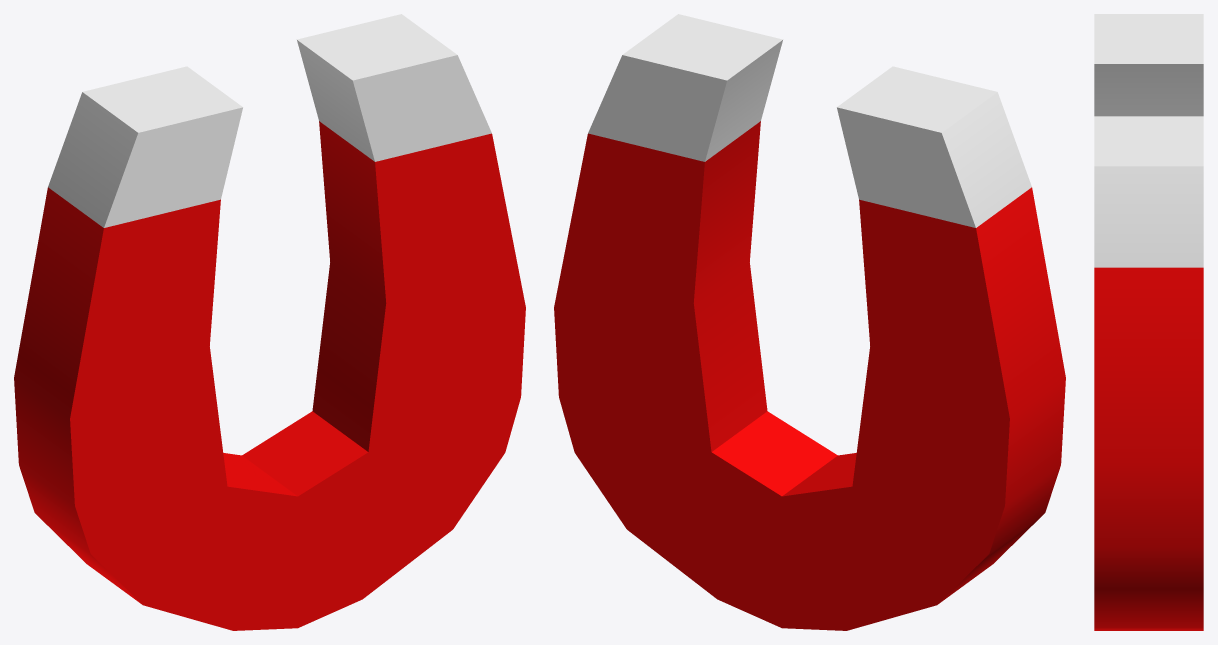
Rendered from horseshoe_002.FBX.
3 views of the same model, side by side, from view 1: azimuth 30°, elevation 25°; view 2: azimuth 150°, elevation 25°; view 3: azimuth 270°, elevation 25° (orthographic). The views are drawn at different scales.
Parts seen in each view (by area): view 1: Box001; view 2: Box001; view 3: Box001.
Boxes of the visible parts, bbox=[...] form: Box001: bbox=[14, 14, 525, 630]; Box001: bbox=[554, 14, 1065, 630]; Box001: bbox=[1094, 14, 1203, 630].
Bounding box in the file's own units: 93.98 × 105 × 20.
